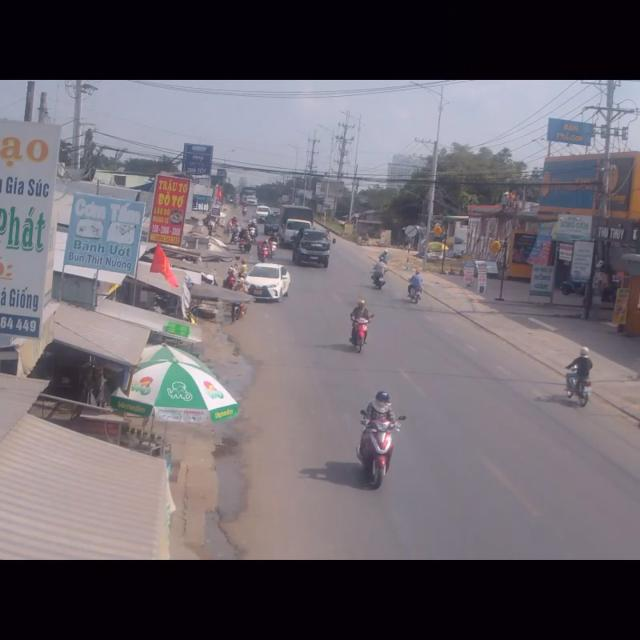car: (248, 262, 294, 305)
motorbike: (353, 389, 398, 492), (564, 343, 592, 411), (348, 296, 370, 354), (407, 268, 423, 304), (372, 254, 387, 292)
truck: (292, 226, 334, 272)
